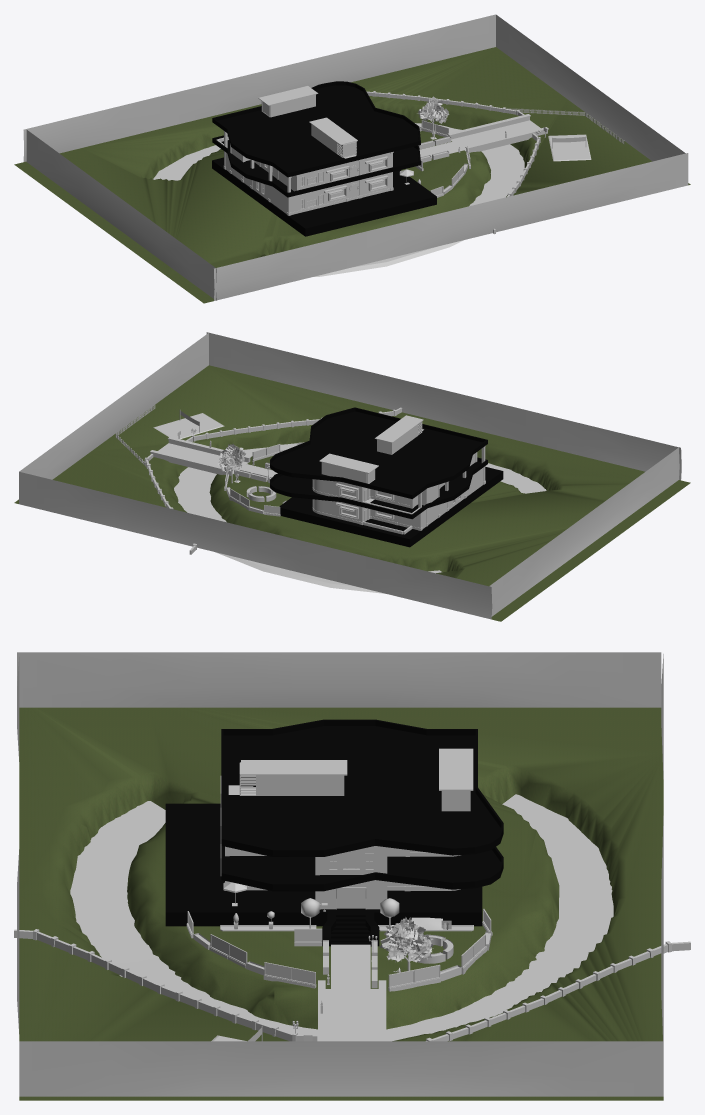
File: scary_house_TEX_N_EMB.fbx
3 renders of one model, top to bottom at view 1: azimuth 30°, elevation 25°; view 2: azimuth 150°, elevation 25°; view 3: azimuth 270°, elevation 25°, orthographic. The views are drawn at different scales.
Visible parts, largest first — view 1: boundry001, ground001, BASE001, water001, bridge002, bridge001, tennis001, fence_wall001, tree001; view 2: boundry001, ground001, BASE001, water001, bridge001, tennis001, fence_wall002, bridge002, tree001; view 3: ground001, boundry001, BASE001, water001, fence_wall002, bridge002, fence_wall001, path001, tree001, bridge001.
Part boxes in pixels (left/top/right/bottom): boundry001: left=23, top=14, right=688, bottom=300; ground001: left=14, top=47, right=690, bottom=303; BASE001: left=212, top=81, right=436, bottom=236; water001: left=153, top=123, right=524, bottom=276; bridge002: left=447, top=124, right=508, bottom=152; bridge001: left=488, top=114, right=548, bottom=144; tennis001: left=548, top=134, right=591, bottom=161; fence_wall001: left=366, top=91, right=524, bottom=115; tree001: left=417, top=96, right=449, bottom=135; boundry001: left=19, top=332, right=681, bottom=619; ground001: left=14, top=365, right=690, bottom=621; BASE001: left=270, top=407, right=503, bottom=547; water001: left=174, top=443, right=546, bottom=593; bridge001: left=150, top=437, right=209, bottom=467; tennis001: left=153, top=410, right=224, bottom=439; fence_wall002: left=186, top=407, right=402, bottom=441; bridge002: left=190, top=447, right=250, bottom=475; tree001: left=217, top=444, right=245, bottom=483; ground001: left=19, top=707, right=663, bottom=1100; boundry001: left=17, top=652, right=663, bottom=1096; BASE001: left=165, top=719, right=503, bottom=946; water001: left=70, top=794, right=613, bottom=1041; fence_wall002: left=14, top=929, right=317, bottom=1041; bridge002: left=318, top=980, right=386, bottom=1022; fence_wall001: left=426, top=941, right=690, bottom=1041; path001: left=331, top=944, right=370, bottom=988; tree001: left=379, top=917, right=433, bottom=970; bridge001: left=318, top=1014, right=386, bottom=1041.
Bounding box in the file's own units: 3795 × 623 × 2693.
